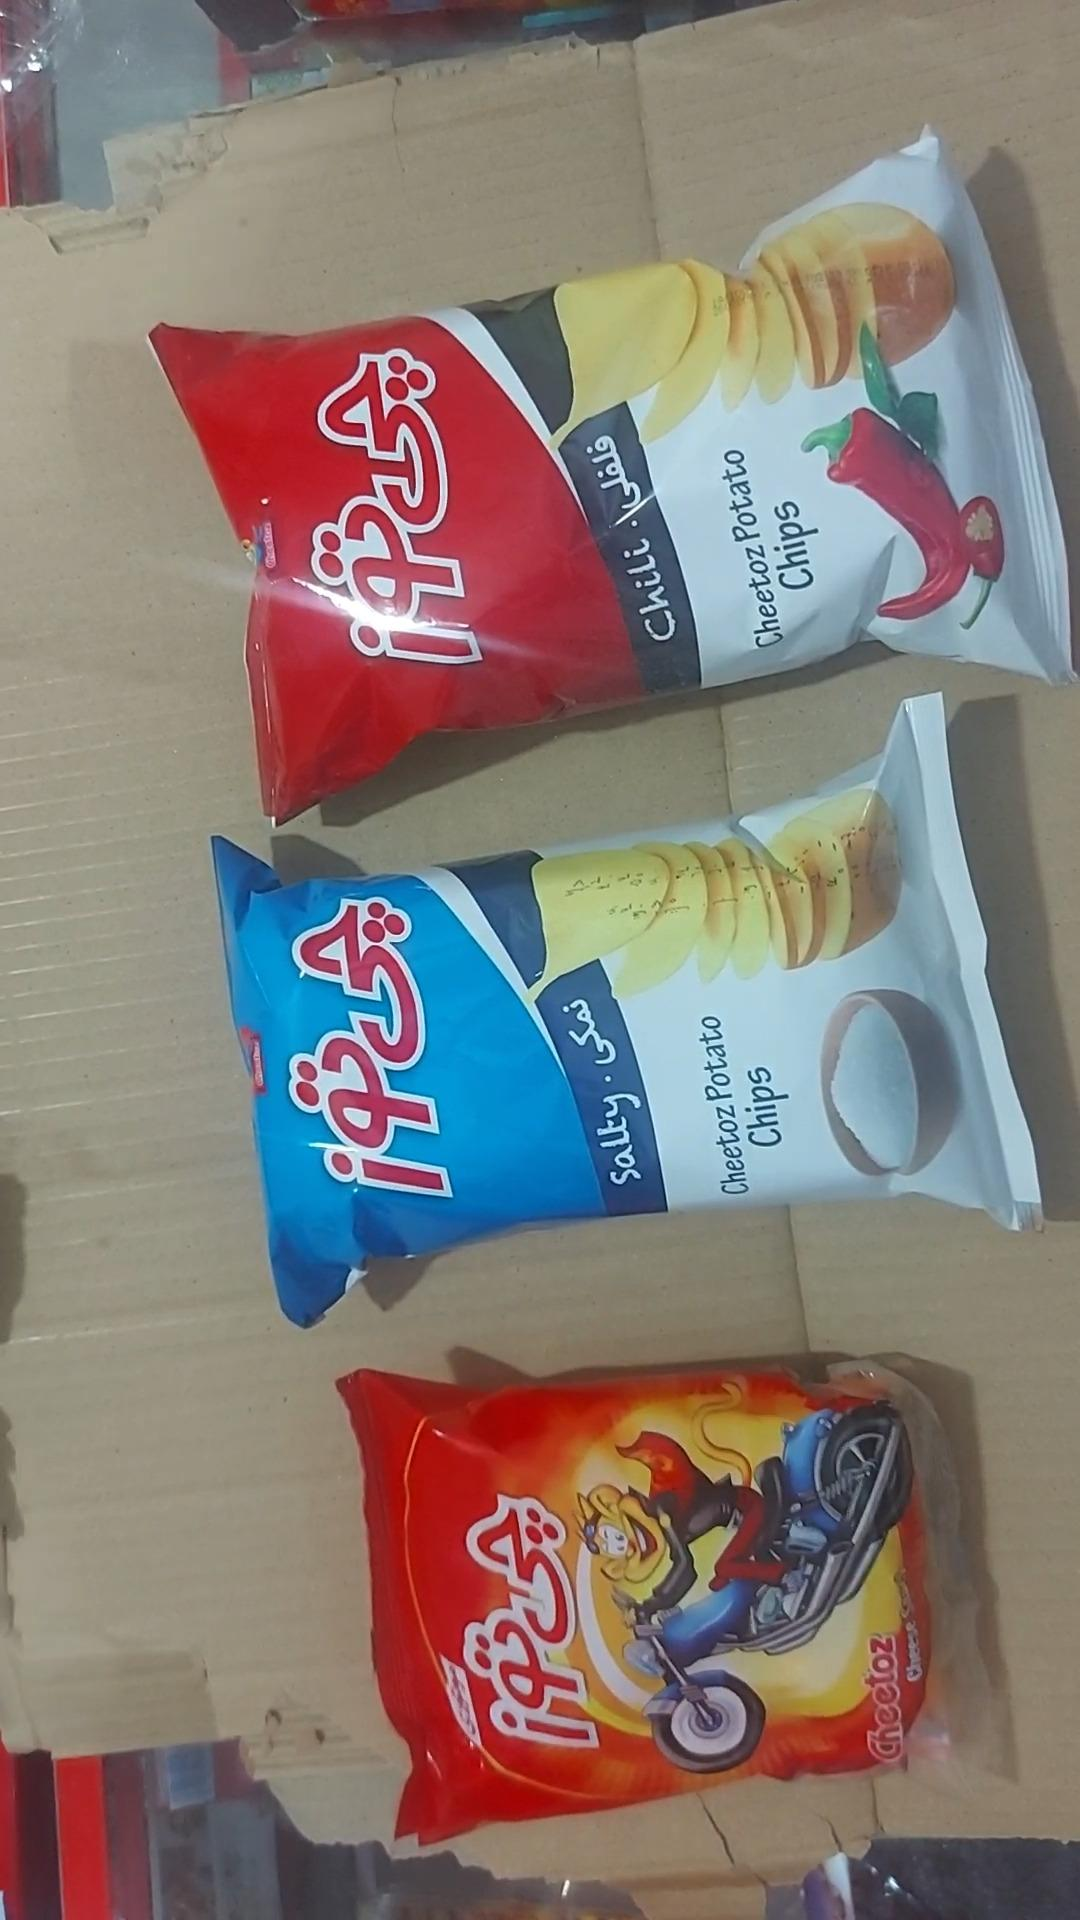Cheetoz chili chips: (149, 135, 1075, 829)
Cheetoz salty chips: (207, 694, 1044, 1333)
Cheetoz snack 30g: (334, 1360, 1017, 1861)
